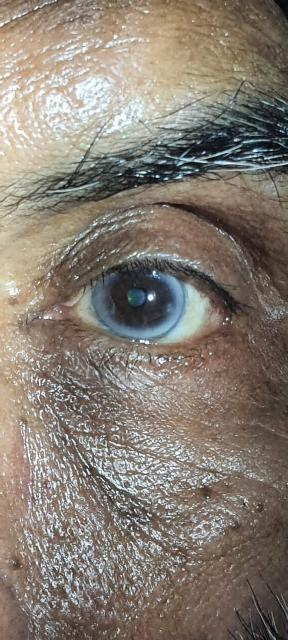eye: (90, 264, 188, 342)
